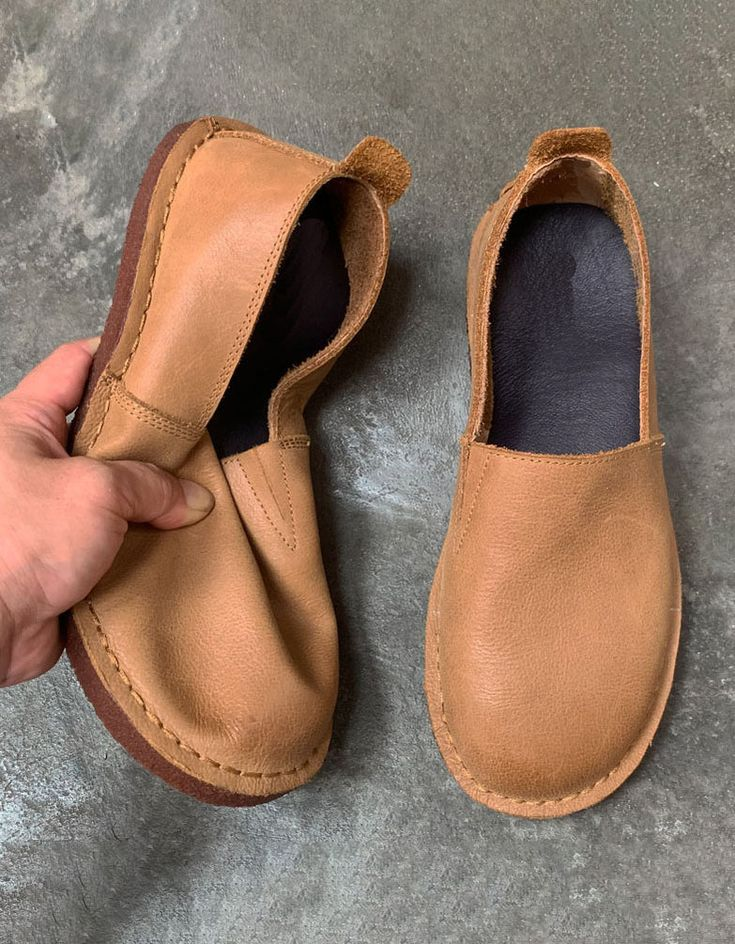cuero: (59, 117, 682, 821)
